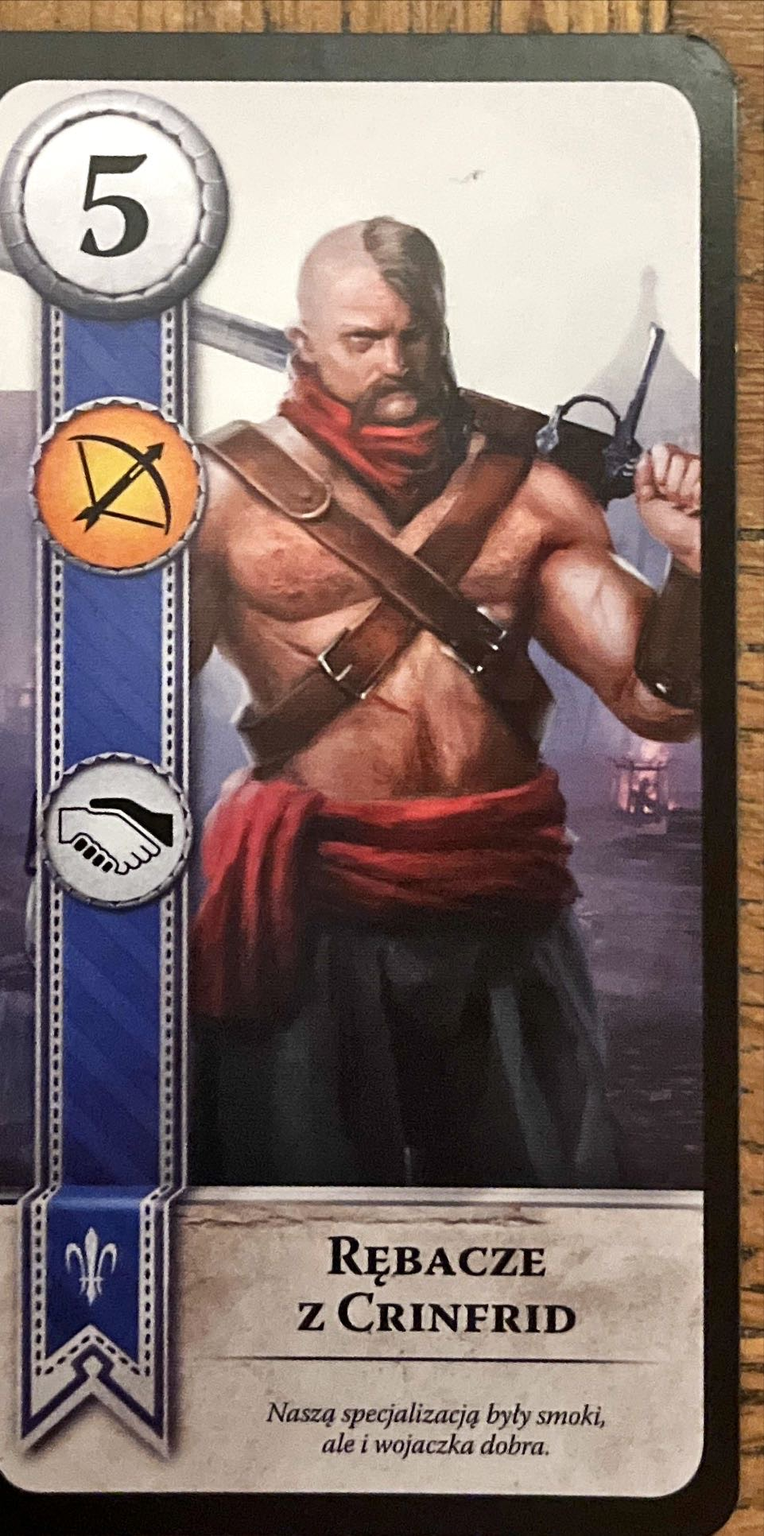5: (4, 86, 228, 322)
lucznik: (29, 394, 208, 579)
wiez: (38, 754, 194, 910)
